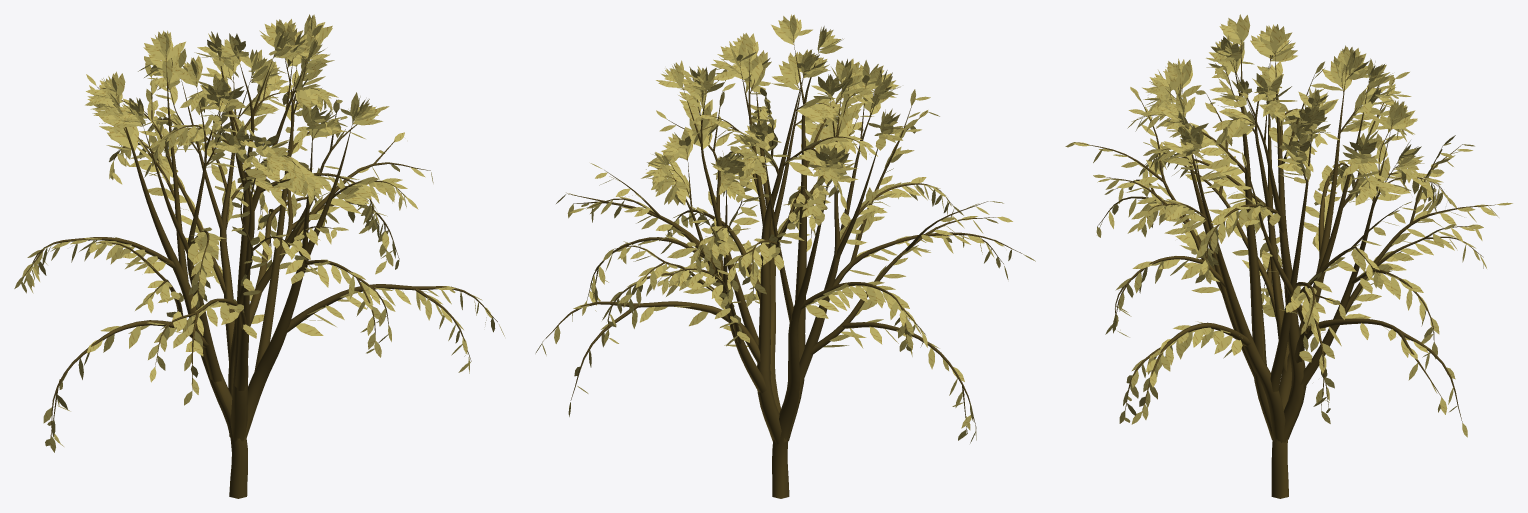
Rendered from tree2.fbx.
The picture shows the model from 3 angles, left to right: view 1: azimuth 30°, elevation 25°; view 2: azimuth 150°, elevation 25°; view 3: azimuth 270°, elevation 25°; orthographic projection. The views are drawn at different scales.
Visible parts, largest first — view 1: leaves, tree; view 2: leaves, tree; view 3: leaves, tree.
Boxes of the visible parts, x1=… form: leaves: x1=14, y1=14, x2=504, y2=452; tree: x1=21, y1=48, x2=497, y2=498; leaves: x1=535, y1=14, x2=1035, y2=443; tree: x1=542, y1=35, x2=1022, y2=498; leaves: x1=1065, y1=14, x2=1512, y2=437; tree: x1=1078, y1=40, x2=1495, y2=498.
Size of the model in its own units: 468 by 530 by 459.
